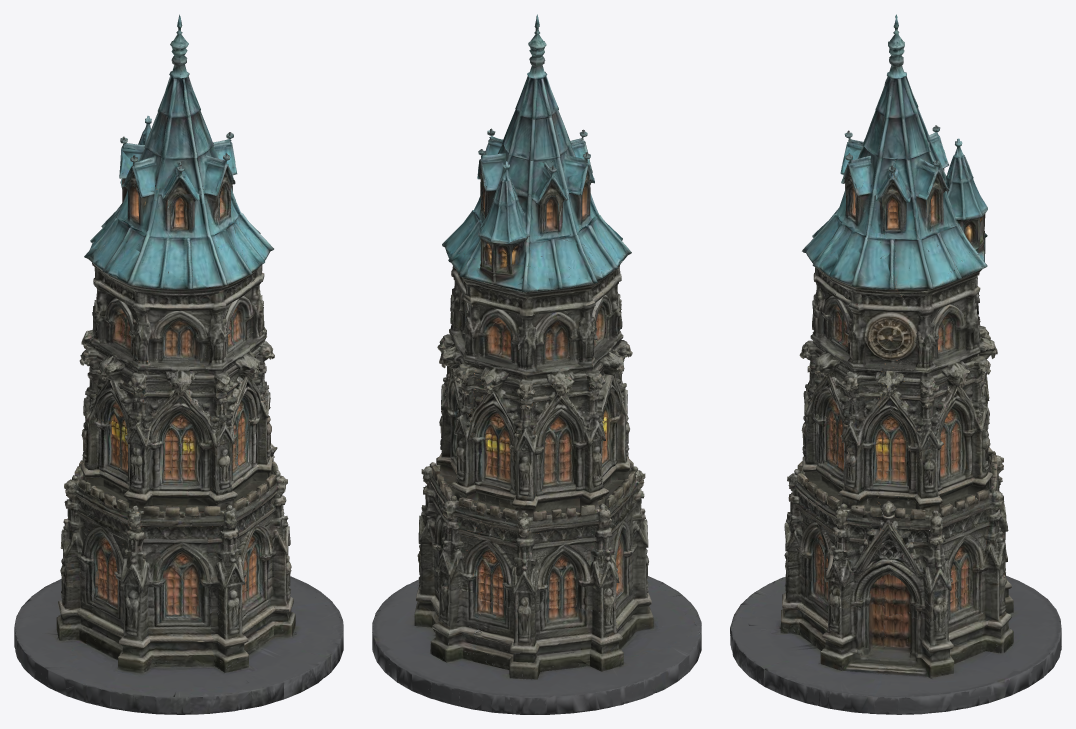
3 views of the same model, side by side, from view 1: azimuth 30°, elevation 25°; view 2: azimuth 150°, elevation 25°; view 3: azimuth 270°, elevation 25° (orthographic).
Visible parts, largest first — view 1: tripo_node_e2054aa6-5a1d-4a41-b7e4-d73d7e03da05; view 2: tripo_node_e2054aa6-5a1d-4a41-b7e4-d73d7e03da05; view 3: tripo_node_e2054aa6-5a1d-4a41-b7e4-d73d7e03da05.
Part boxes in pixels (x1,y1,x2,y2): tripo_node_e2054aa6-5a1d-4a41-b7e4-d73d7e03da05: (14,14,343,714); tripo_node_e2054aa6-5a1d-4a41-b7e4-d73d7e03da05: (372,14,701,714); tripo_node_e2054aa6-5a1d-4a41-b7e4-d73d7e03da05: (730,14,1061,714).
Bounding box in the file's own units: 0.4641 × 0.9789 × 0.4659.
Materials: 1 (1 with a texture image).
